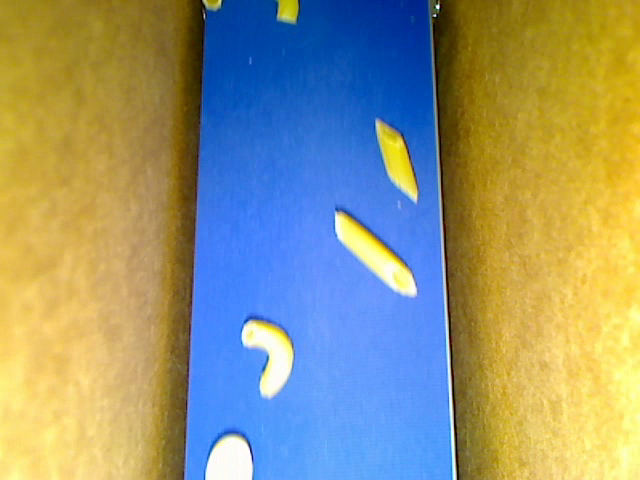elbow: (241, 319, 293, 399), (274, 1, 297, 24)
penne: (334, 210, 417, 296), (374, 119, 417, 202)
